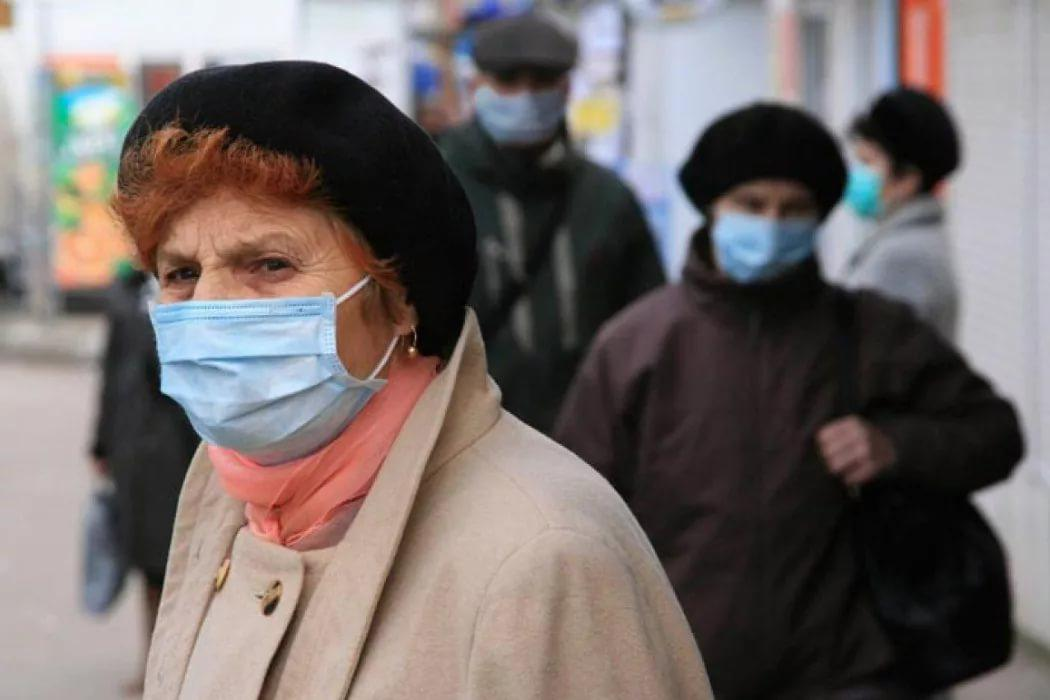mask: (141, 195, 380, 464), (705, 173, 817, 281), (471, 48, 558, 142), (845, 128, 903, 219)
